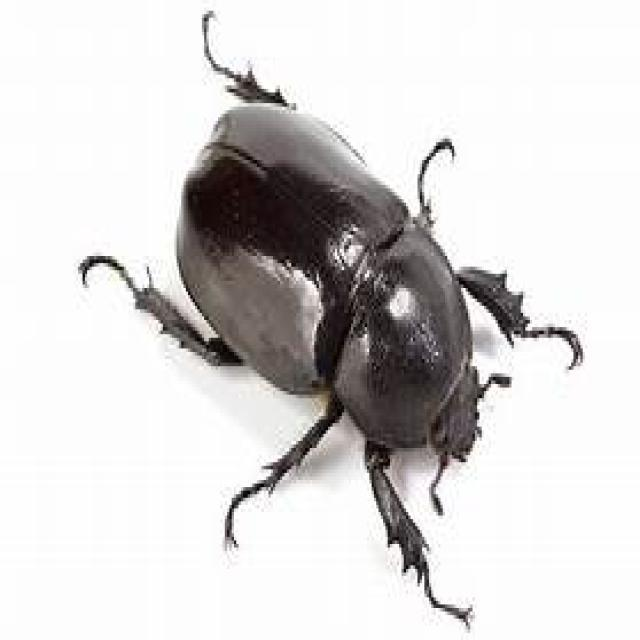Rhino-beetle: (55, 65, 609, 593)
